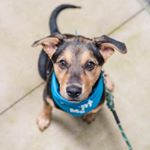puppy: (27, 2, 133, 139)
